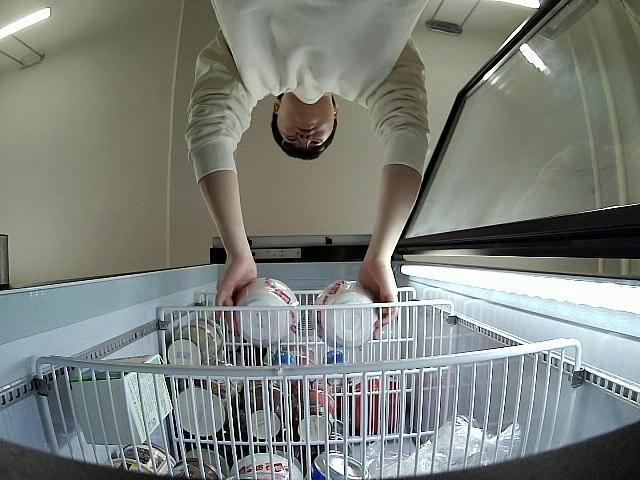09_yukGaeJang: (234, 277, 302, 348), (311, 283, 378, 351)
